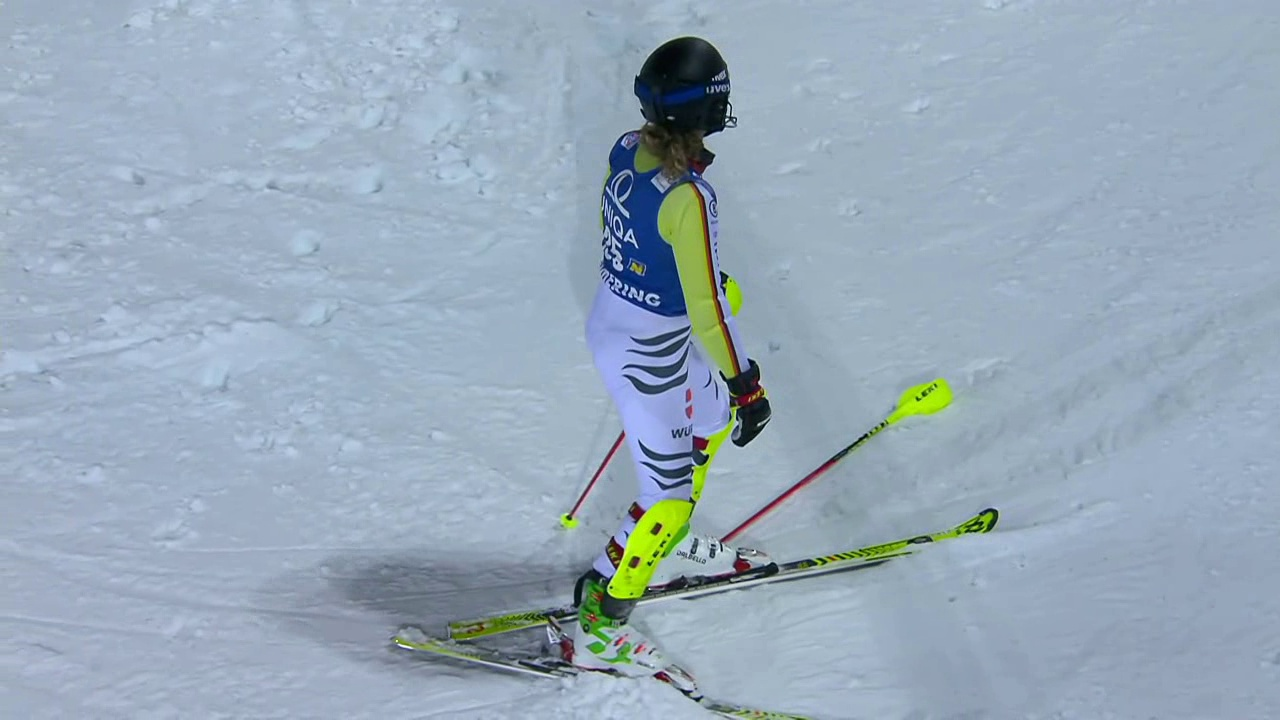uniqa: (599, 170, 644, 287)
